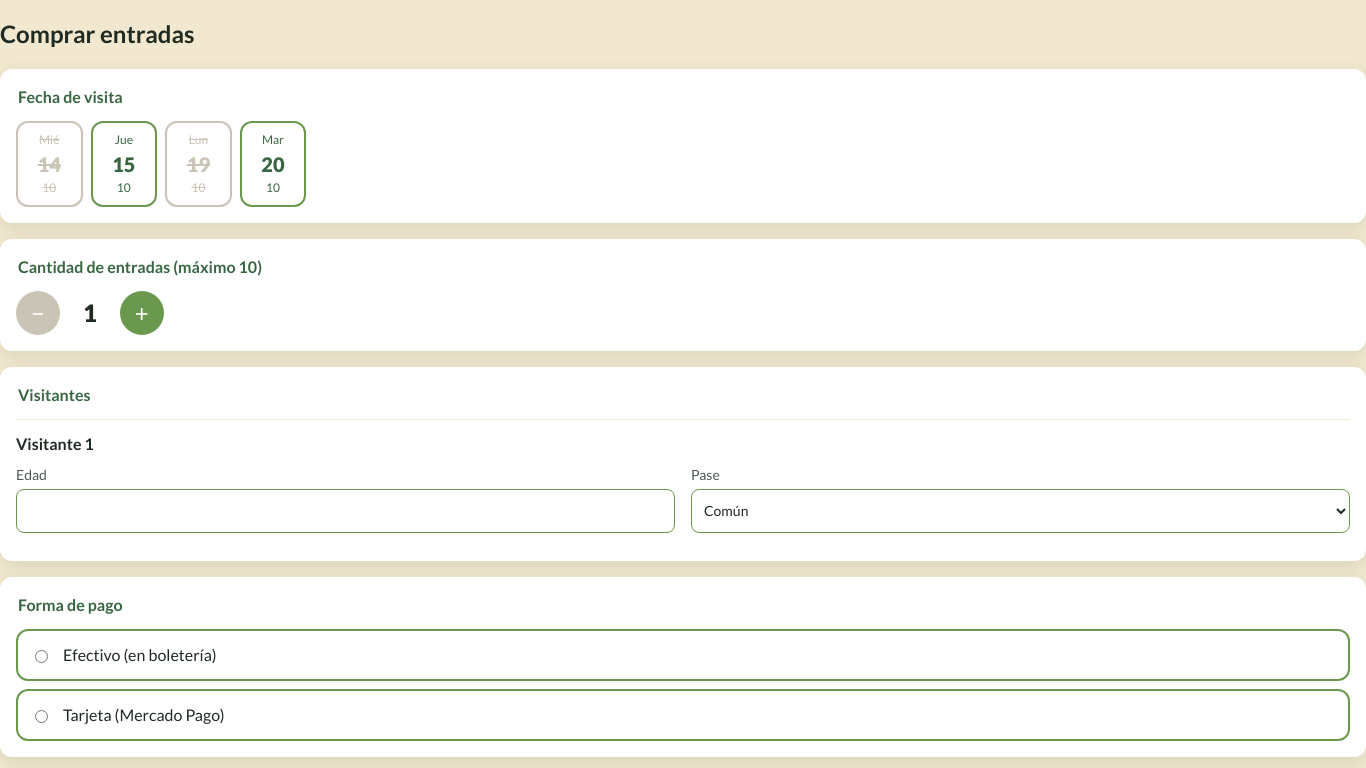
Formulario de compra de entradas › precio individual de cada entrada › al agregar una entrada mantiene los precios anteriores y actualiza el total al completarla
The image size is (1366, 768).
Type "30" into the number field named "Edad del visitante 1" at (346, 511), box [16,489,675,533]
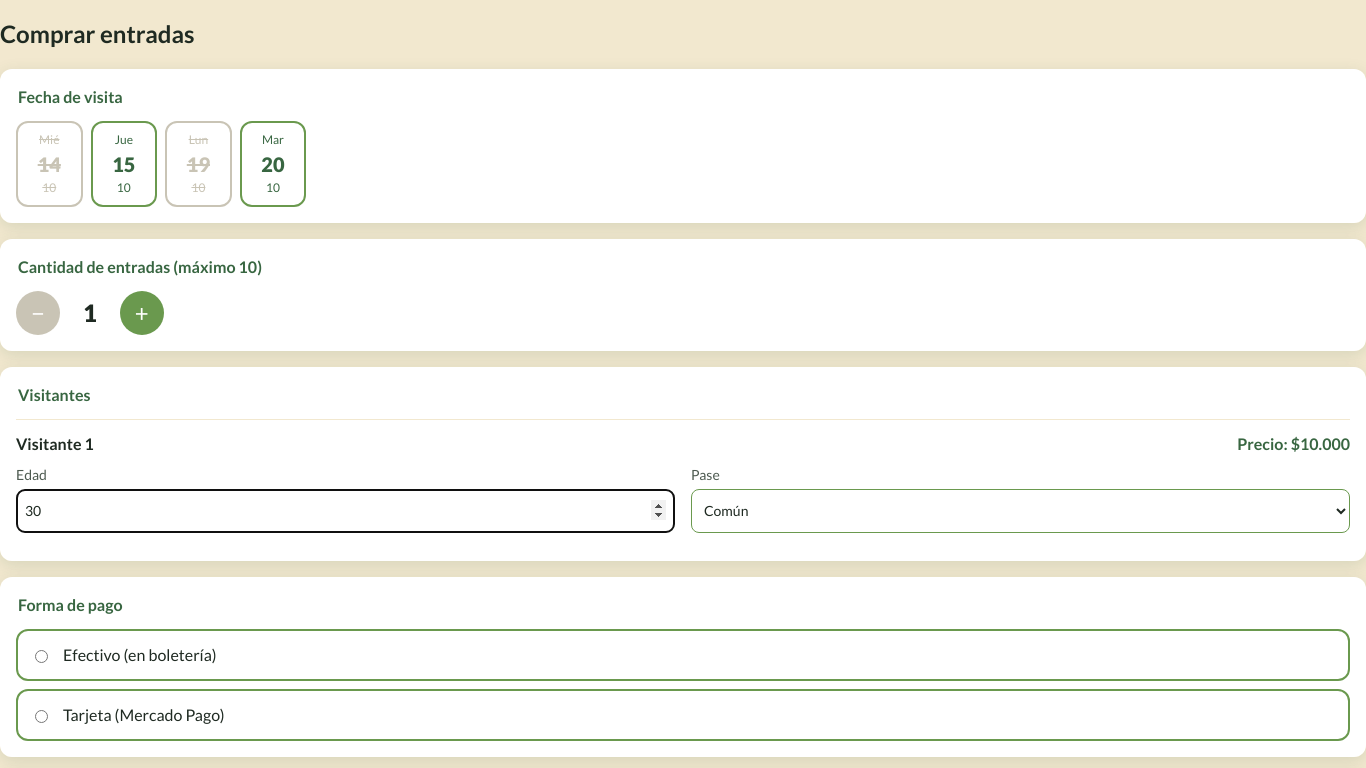
Select "Común" in the dropdown labelled "Pase" at (1020, 511), box [691,489,1350,533]
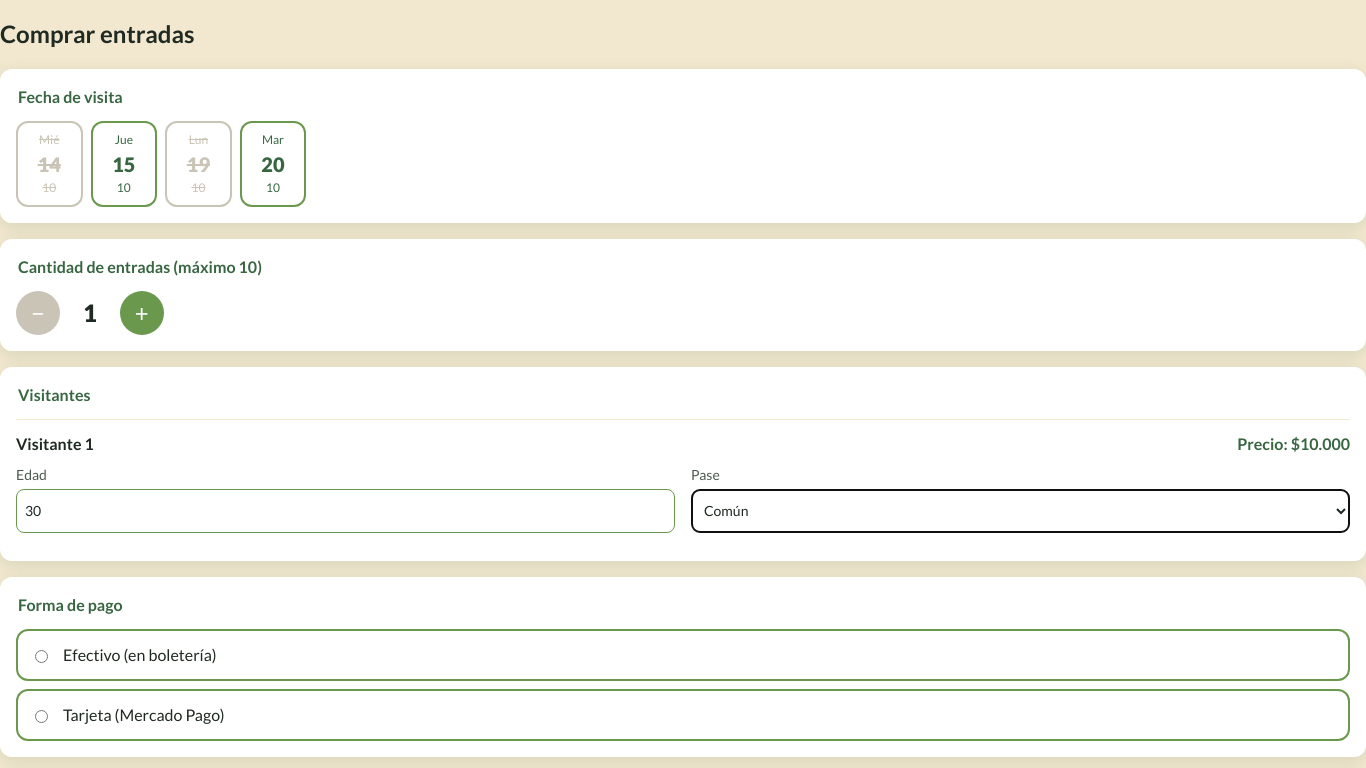
Click the button named "Agregar una entrada" at (142, 313), box [120,291,164,335]
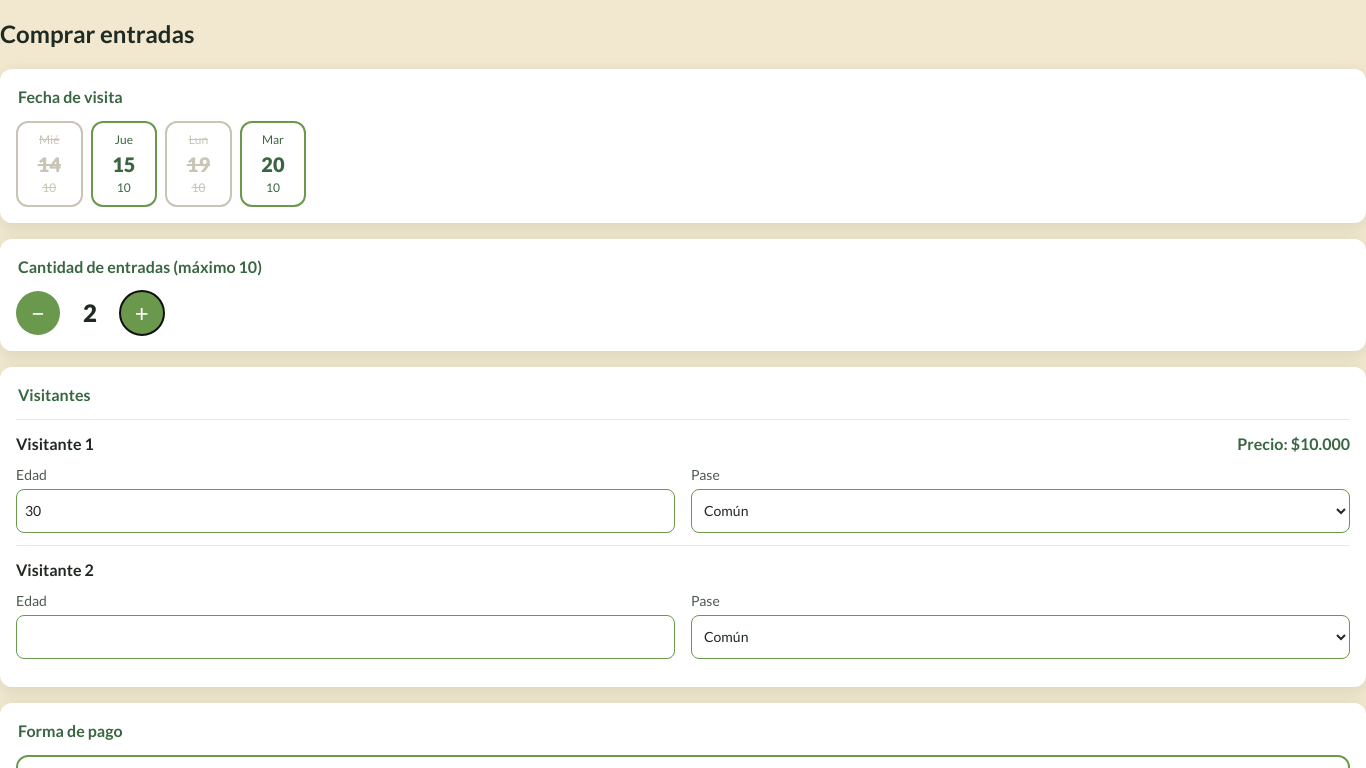
Check: the text "Precio: $10.000" is shown, box [1237,432,1350,456]
Type "35" into the number field named "Edad del visitante 2" at (346, 637), box [16,615,675,659]
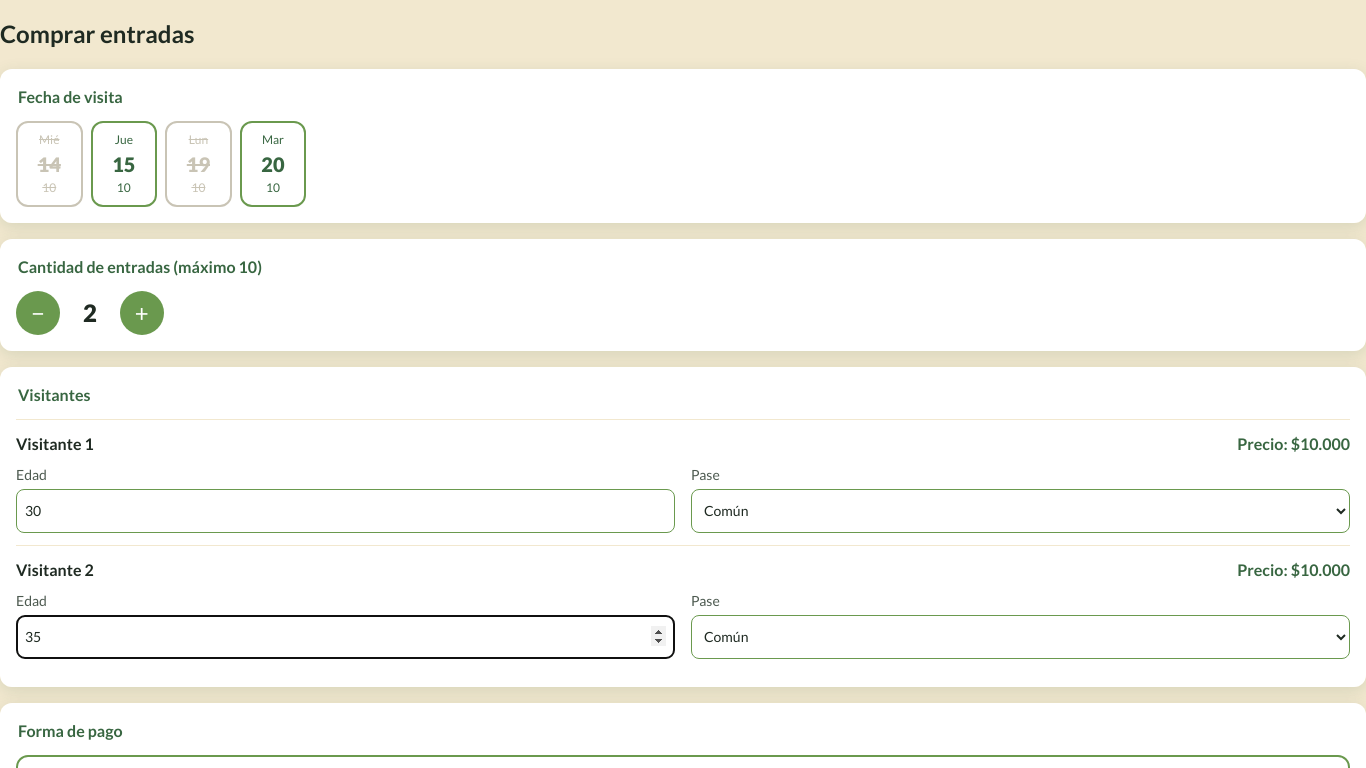
Select "VIP" in the dropdown named "Pase del visitante 2" at (1020, 637), box [691,615,1350,659]
(page scrolled)
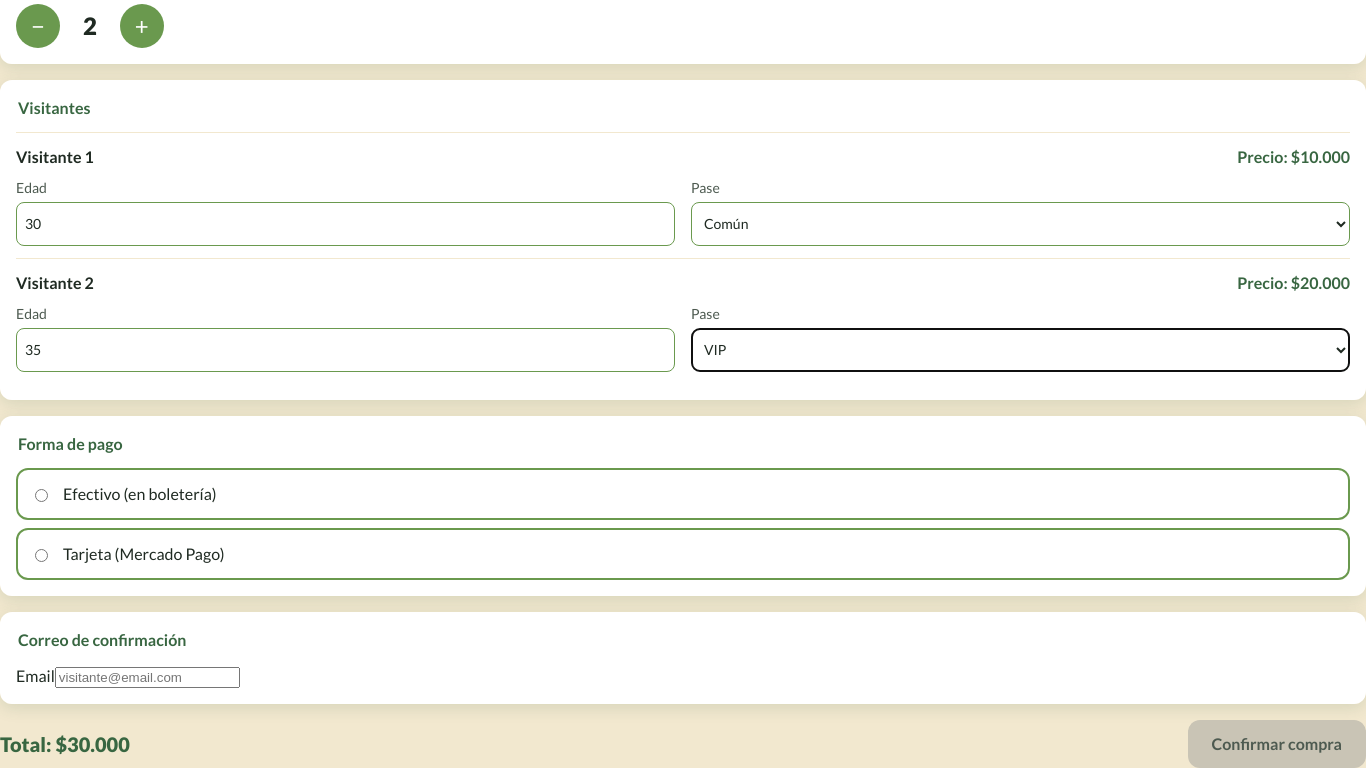
Check: the text "Precio: $20.000" is shown, box [1237,271,1350,295]
Check: the text "Total: $30.000" is shown, box [0,729,130,759]
